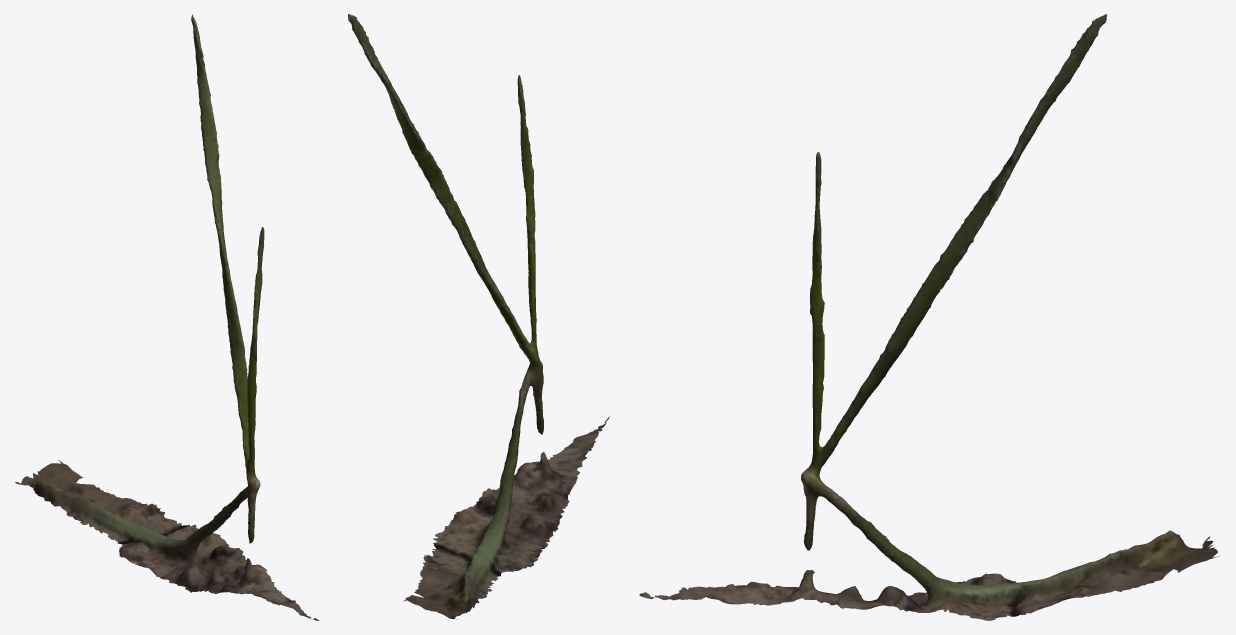
The model's file is Day14.glb.
3 renders of one model, left to right at view 1: azimuth 30°, elevation 25°; view 2: azimuth 150°, elevation 25°; view 3: azimuth 270°, elevation 25°, orthographic. The views are drawn at different scales.
Visible parts, largest first — view 1: Day14; view 2: Day14; view 3: Day14.
Part boxes in pixels (x1,y1,x2,y2): Day14: (15,14,318,620); Day14: (348,14,609,619); Day14: (639,14,1219,620).
Size of the model in its own units: 0.2059 by 0.6926 by 0.5653.
Materials: 43 (43 with a texture image).
